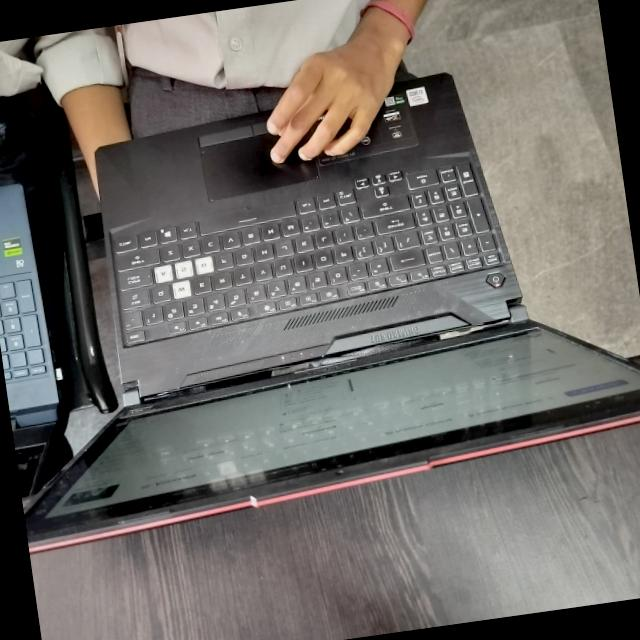laptop: (0, 29, 640, 584)
